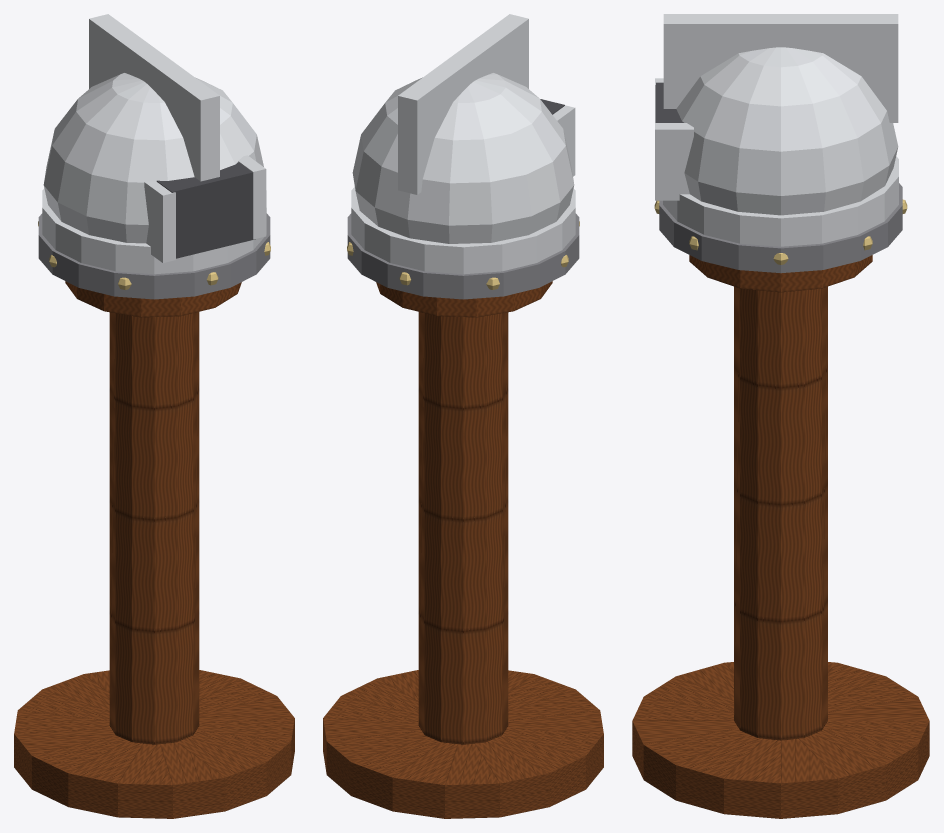
Rendered from helm-on-a-shaping-form-1-05-m.glb.
The picture shows the model from 3 angles, left to right: view 1: azimuth 30°, elevation 25°; view 2: azimuth 150°, elevation 25°; view 3: azimuth 270°, elevation 25°; orthographic projection. The views are drawn at different scales.
Visible parts, largest first — view 1: blacksmith-forge-and-armoury-helm-on-form; view 2: blacksmith-forge-and-armoury-helm-on-form; view 3: blacksmith-forge-and-armoury-helm-on-form.
Part boxes in pixels (x1,y1,x2,y2): blacksmith-forge-and-armoury-helm-on-form: (14,14,294,818); blacksmith-forge-and-armoury-helm-on-form: (323,14,603,818); blacksmith-forge-and-armoury-helm-on-form: (632,14,929,818).
Bounding box in the file's own units: 0.38 × 1.04 × 0.38.
5 materials, 1 textured.
